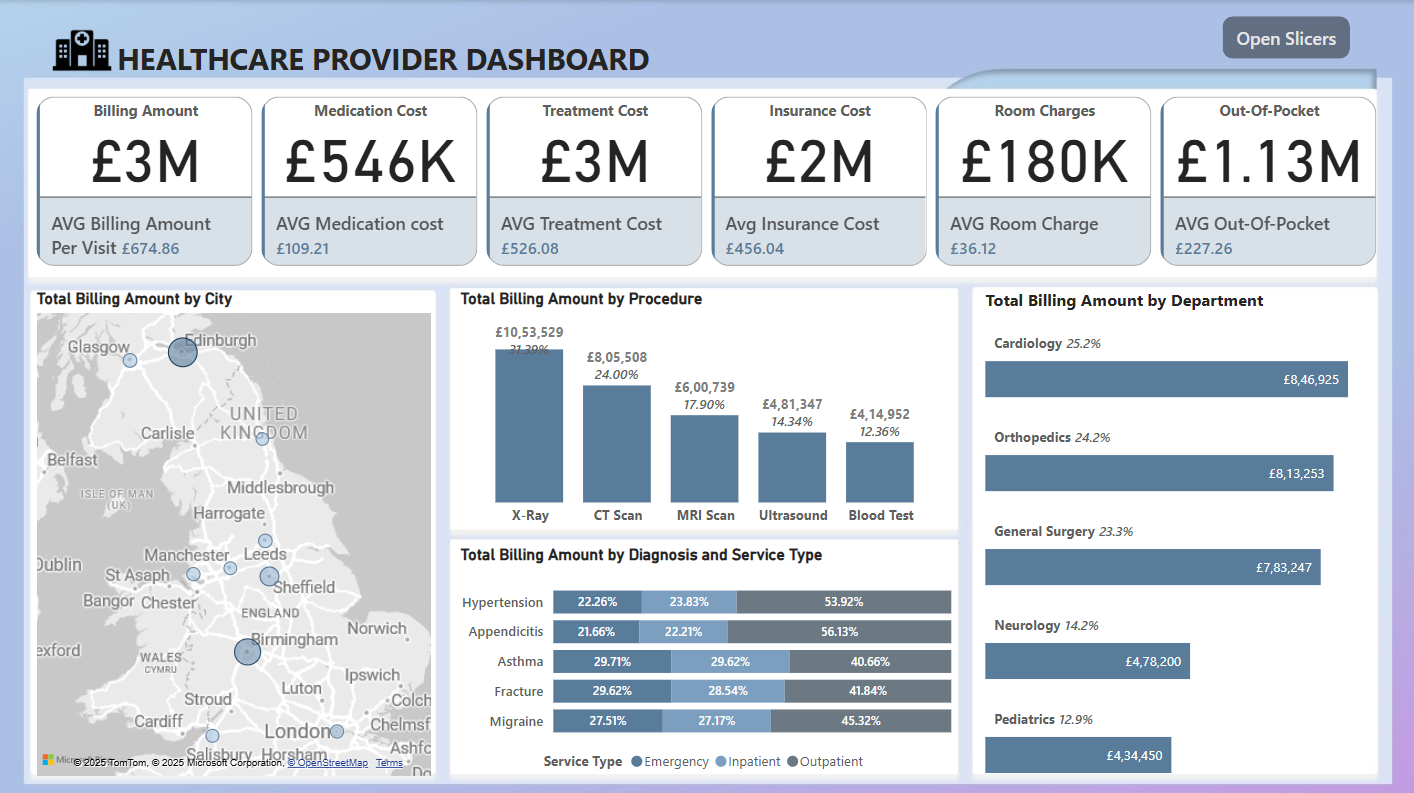

The page's visual inventory and layout, read from the dashboard file:
{"tool":"powerbi","page":{"name":"DASHBOARD","canvas":[1280,720],"ordinal":0},"visuals":[{"type":"cardVisual","fields":{"Data":["DAX calculation.Total Billing Amount","DAX calculation.Total Medication Cost","DAX calculation.Total Treatment Cost","DAX calculation.Total Insurance Coverage","DAX calculation.Total Room Charges","DAX calculation.Out-Of-Pocket"]},"box":[27.9,82.6,1222.1,164],"z":0},{"type":"actionButton","title":"Open Slicer","box":[1104.4,14.7,115.2,38.4],"z":1000,"group":"g1"},{"type":"clusteredColumnChart","fields":{"Category":["procedures.Procedure"],"Y":["DAX calculation.Total Billing Amount"]},"box":[410.5,260.5,453.5,223.3],"z":3000},{"type":"hundredPercentStackedBarChart","fields":{"Y":["DAX calculation.Total Billing Amount"],"Category":["diagnoses.Diagnosis"],"Series":["visits.Service Type"]},"box":[410.5,491.9,453.5,214],"z":4000},{"type":"clusteredBarChart","title":"Total Billing Amount by Department","fields":{"Category":["departments.Department"],"Y":["DAX calculation.Blank","DAX calculation.Total Billing Amount"]},"box":[884.9,260.5,365.1,445.4],"z":5000},{"type":"textbox","box":[90.4,29,511.4,48],"z":6000},{"type":"image","box":[42.4,13.4,62.5,63.6],"z":7000},{"type":"group","id":"g1","title":"Slicer Btn","box":[1103.2,14.7,116.3,38.4],"z":9000},{"type":"map","title":"Total Billing Amount by City","fields":{"Category":["cities.City"],"Size":["DAX calculation.Total Billing Amount"],"Y":["Min(cities.City)"],"X":["Min(cities.State)"]},"box":[28.2,260.8,365.8,444.9],"z":9001}]}

Visuals, with their boxes in screenshot pixels (x1, y1, x2, y2), scaled from the page's 1280x720 canvas onto the 1414x793 screenshot:
cardVisual - DAX calculation.Total Billing Amount x DAX calculation.Total Medication Cost: 31:91:1381:272
"Open Slicer" actionButton: 1220:16:1347:58
clusteredColumnChart - procedures.Procedure x DAX calculation.Total Billing Amount: 453:287:954:533
hundredPercentStackedBarChart - DAX calculation.Total Billing Amount x diagnoses.Diagnosis: 453:542:954:777
"Total Billing Amount by Department" clusteredBarChart: 978:287:1381:777
textbox: 100:32:665:85
image: 47:15:116:85
"Slicer Btn" group: 1219:16:1347:58
"Total Billing Amount by City" map: 31:287:435:777
